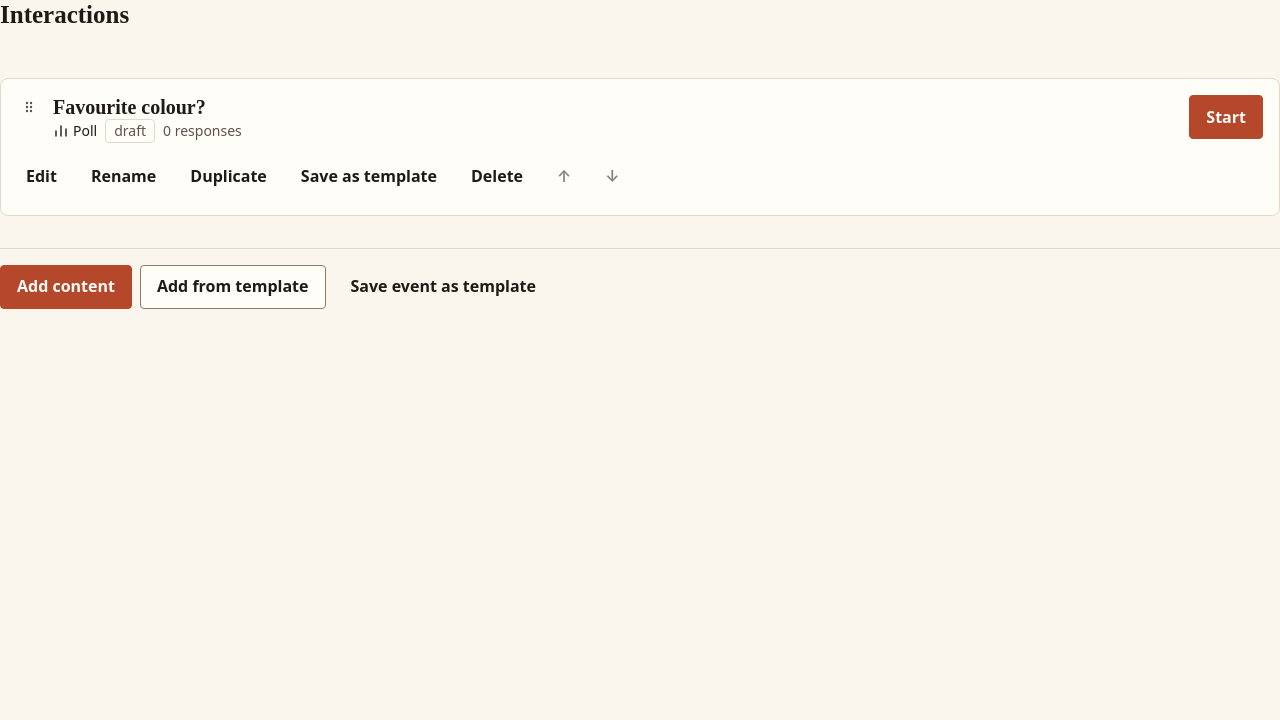
Test: Save as template › saves one item under a name the host can change
Click the button with aria-label "Save as template: Favourite colour?": [369, 177] box [284,155,454,199]
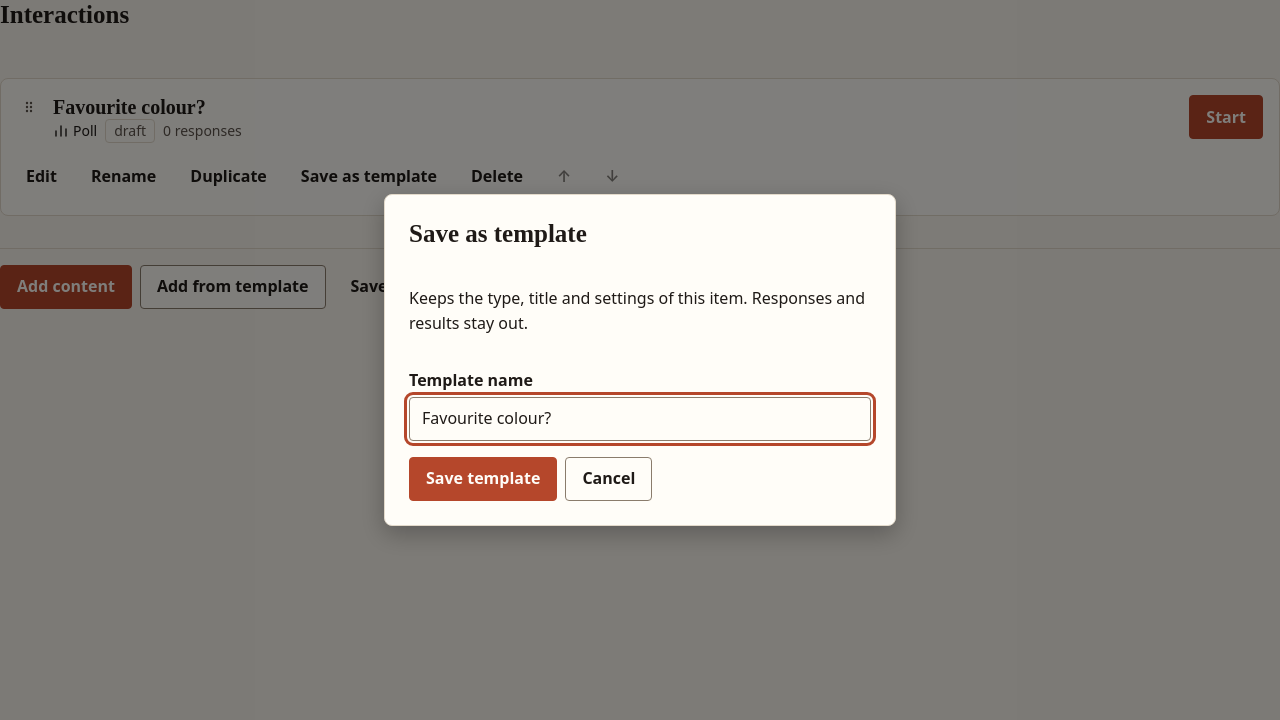
Expected: the field labelled "Template name" holds "Favourite colour?"
Replace the text in the field labelled "Template name" with "Colour poll": [640, 419] box [409,397,871,441]
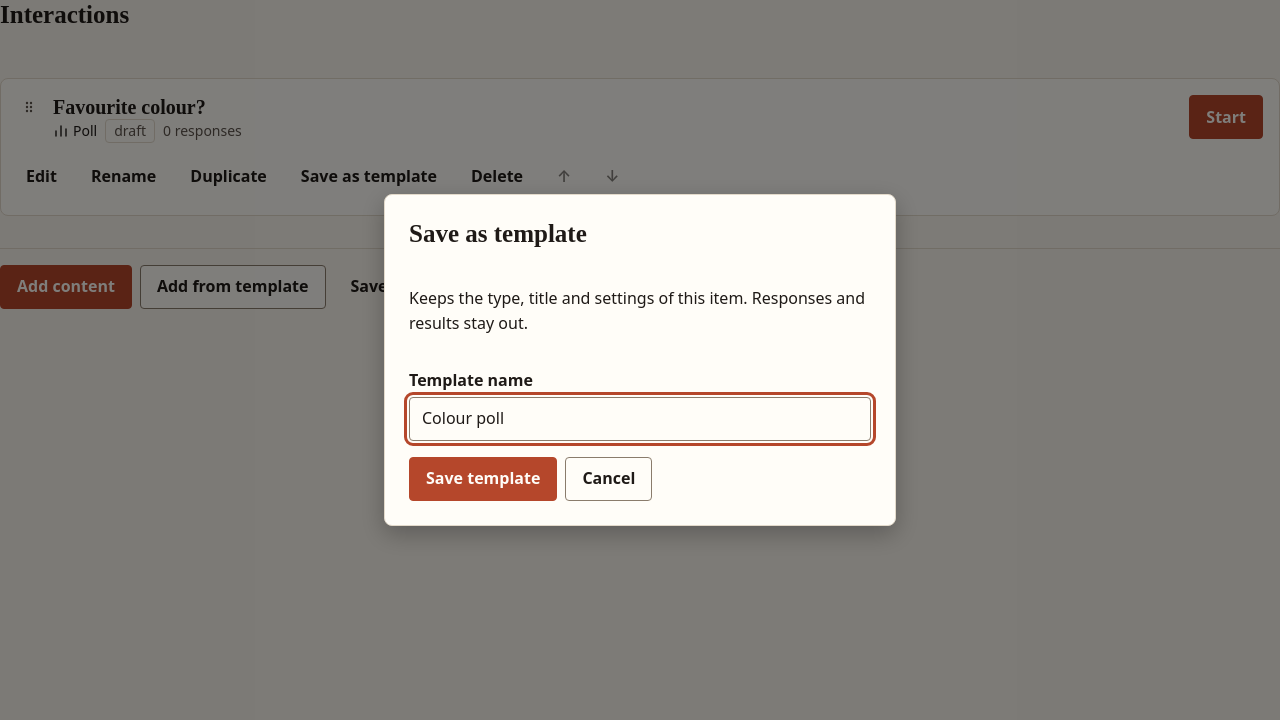
Click the button "Save template": [483, 479] box [409,457,557,501]
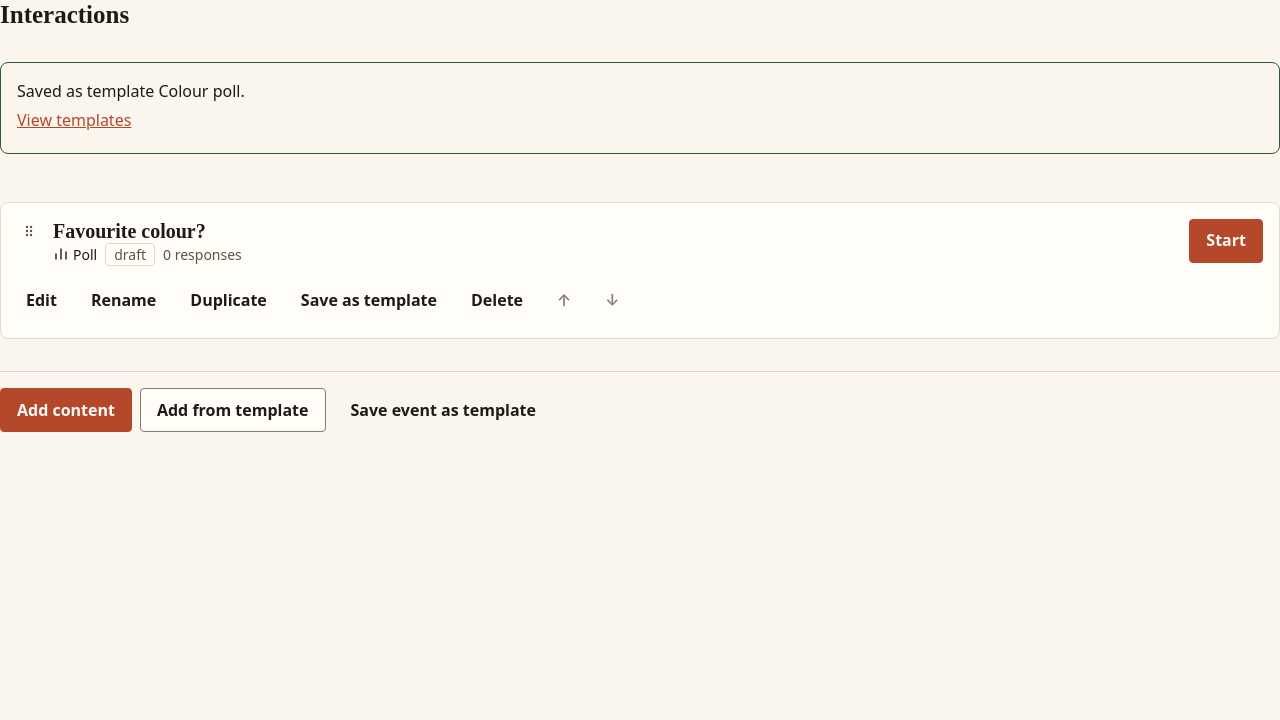
Expected: the message shows "Saved as template Colour poll.", [17,80,245,102]
Expected: the dialog is gone
